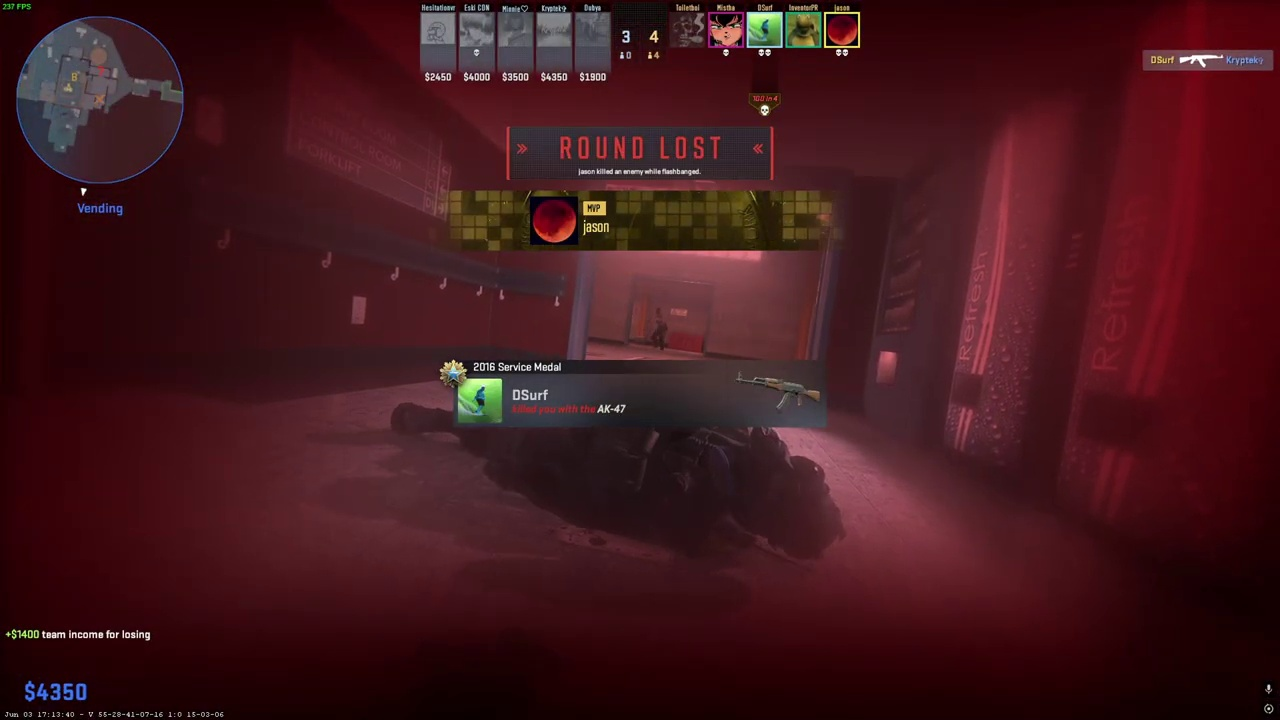Terrorist: (650, 308, 668, 350)
